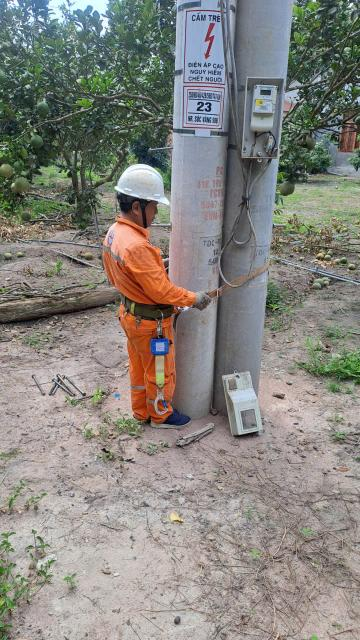gloves: (188, 288, 217, 313)
harness: (115, 285, 187, 326)
helmet: (104, 159, 184, 213)
shoes: (149, 408, 195, 432)
